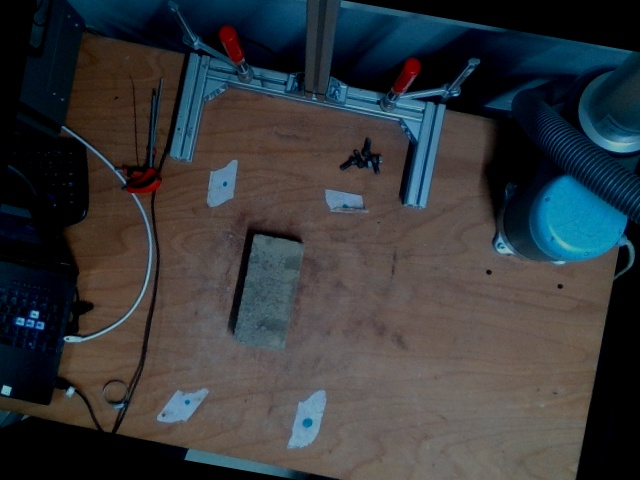brick: (234, 236, 301, 347)
